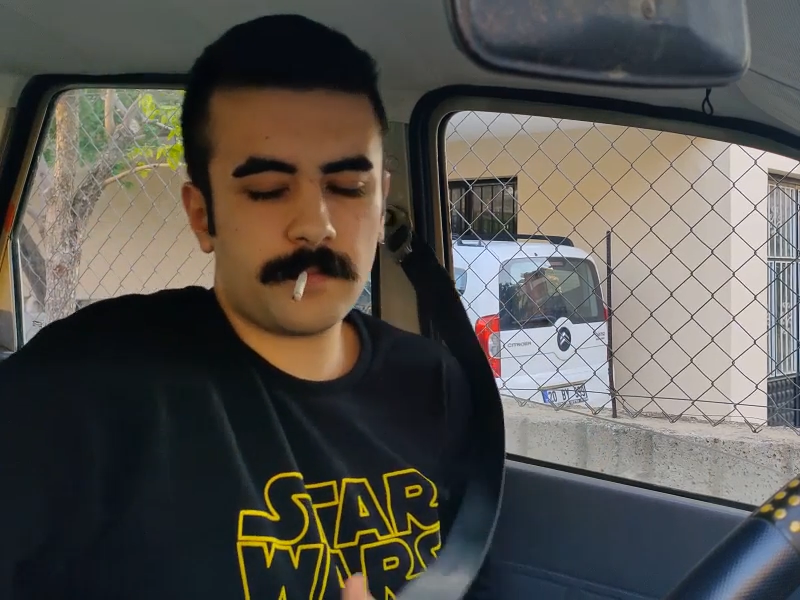sigara: (286, 268, 311, 305)
